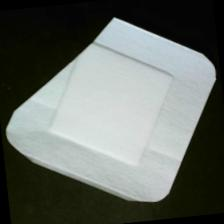Cut: (1, 7, 224, 222)
